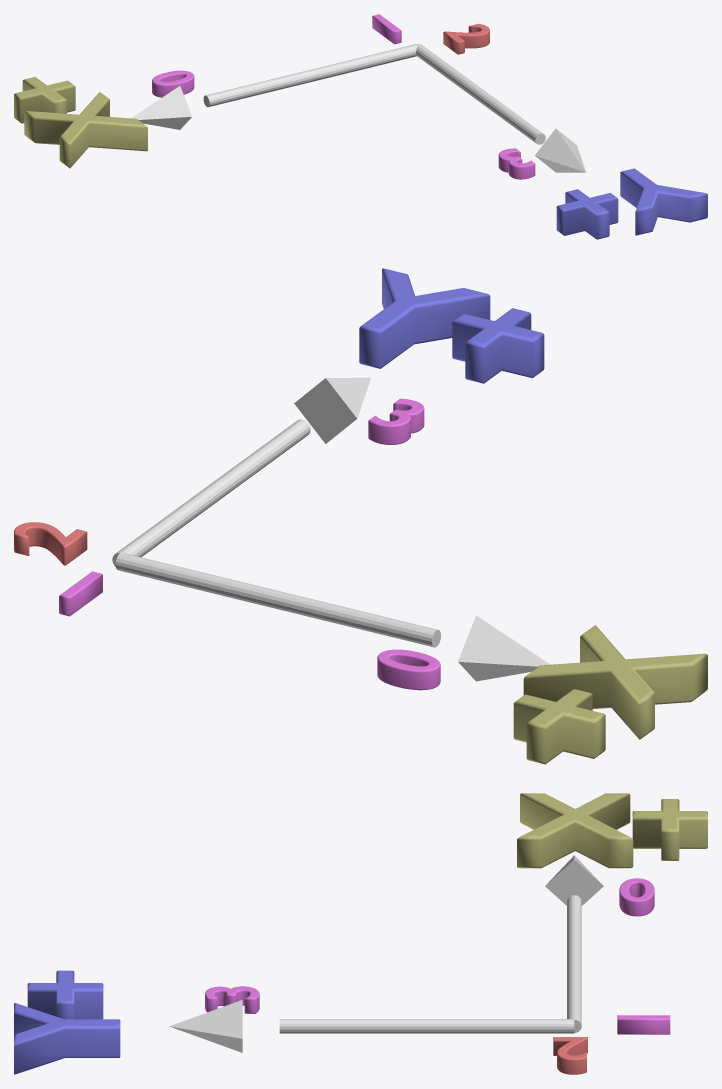
The picture shows the model from 3 angles, top to bottom: view 1: azimuth 30°, elevation 25°; view 2: azimuth 150°, elevation 25°; view 3: azimuth 270°, elevation 25°; orthographic projection. The views are drawn at different scales.
Parts seen in each view (by area): view 1: Text, Text.001, Arrow2, Arrow, Text.005, Text.003, Text.002, Text.004; view 2: Text, Text.001, Arrow2, Arrow, Text.003, Text.005, Text.002, Text.004; view 3: Text, Text.001, Arrow, Arrow2, Text.003, Text.005, Text.002, Text.004.
Part boxes in pixels (x1,y1,x2,y2): Text: [14, 77, 147, 168]; Text.001: [556, 168, 707, 239]; Arrow2: [131, 44, 418, 129]; Arrow: [416, 44, 586, 172]; Text.005: [443, 23, 489, 54]; Text.003: [152, 70, 194, 97]; Text.002: [498, 148, 535, 179]; Text.004: [372, 14, 401, 44]; Text: [513, 625, 707, 764]; Text.001: [359, 268, 544, 383]; Arrow2: [115, 553, 549, 681]; Arrow: [112, 377, 370, 566]; Text.003: [377, 649, 440, 690]; Text.005: [14, 522, 87, 565]; Text.002: [368, 398, 424, 444]; Text.004: [59, 571, 102, 616]; Text: [517, 793, 707, 868]; Text.001: [14, 970, 120, 1074]; Arrow: [169, 1000, 574, 1052]; Arrow2: [545, 855, 603, 1032]; Text.003: [619, 878, 654, 916]; Text.005: [553, 1037, 587, 1074]; Text.002: [205, 986, 259, 1013]; Text.004: [617, 1015, 670, 1034].
Size of the model in its own units: 4.16 by 4.71 by 0.4.
